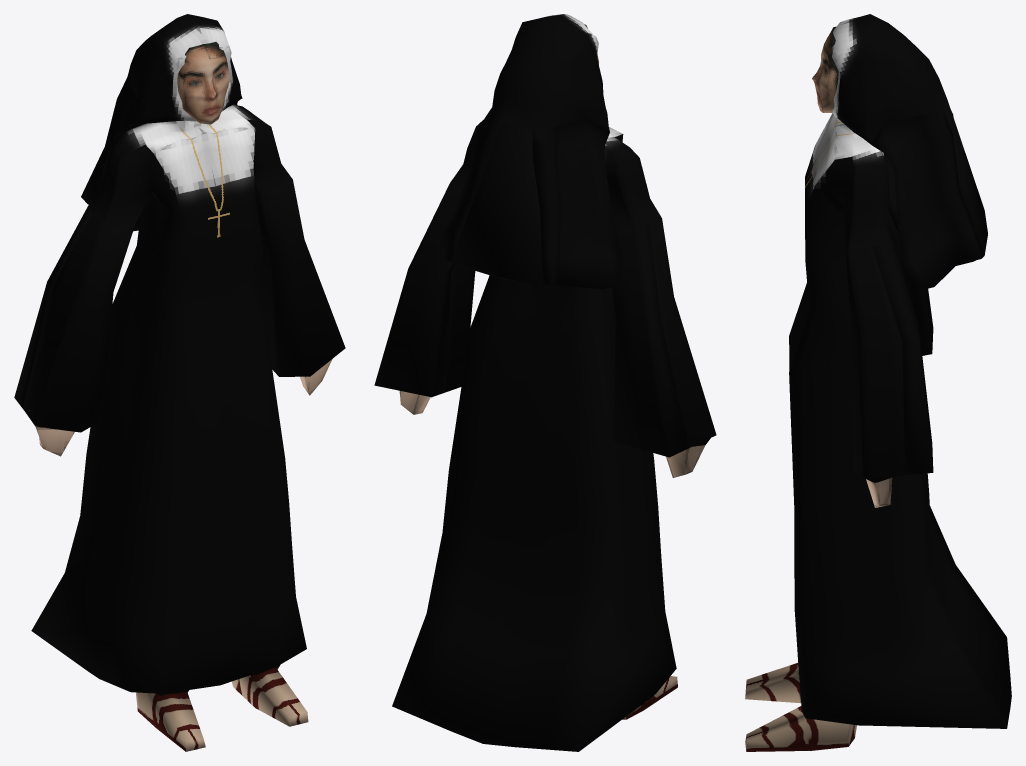
File: nun.gltf
The picture shows the model from 3 angles, left to right: view 1: azimuth 30°, elevation 25°; view 2: azimuth 150°, elevation 25°; view 3: azimuth 270°, elevation 25°; orthographic projection. The views are drawn at different scales.
Visible parts, largest first — view 1: Cubo, Roundcube, Roundcube.001; view 2: Cubo, Roundcube; view 3: Cubo, Roundcube, Roundcube.001.
Part boxes in pixels (box(x1,y1,x2,y2)): Cubo: box(14, 104, 345, 751); Roundcube: box(81, 14, 242, 231); Roundcube.001: box(177, 42, 229, 124); Cubo: box(374, 120, 716, 751); Roundcube: box(434, 14, 621, 289); Cubo: box(745, 113, 1011, 751); Roundcube: box(832, 14, 987, 289); Roundcube.001: box(812, 26, 838, 112).
Bounding box in the file's own units: 2.93 × 6.12 × 2.09.
Materials: 3 (3 with a texture image).
